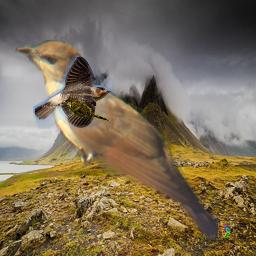Cuckoo: (15, 40, 218, 240), (63, 97, 110, 121)
Swallow: (33, 55, 114, 129)
